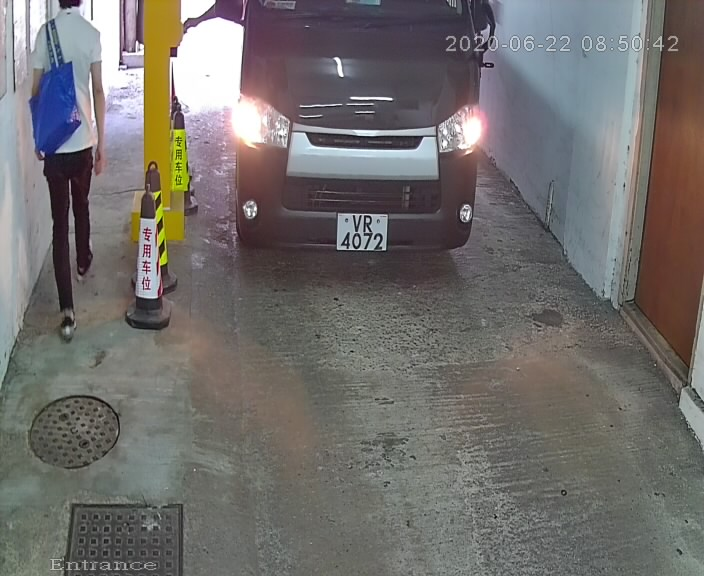van_s: (219, 1, 512, 289)
